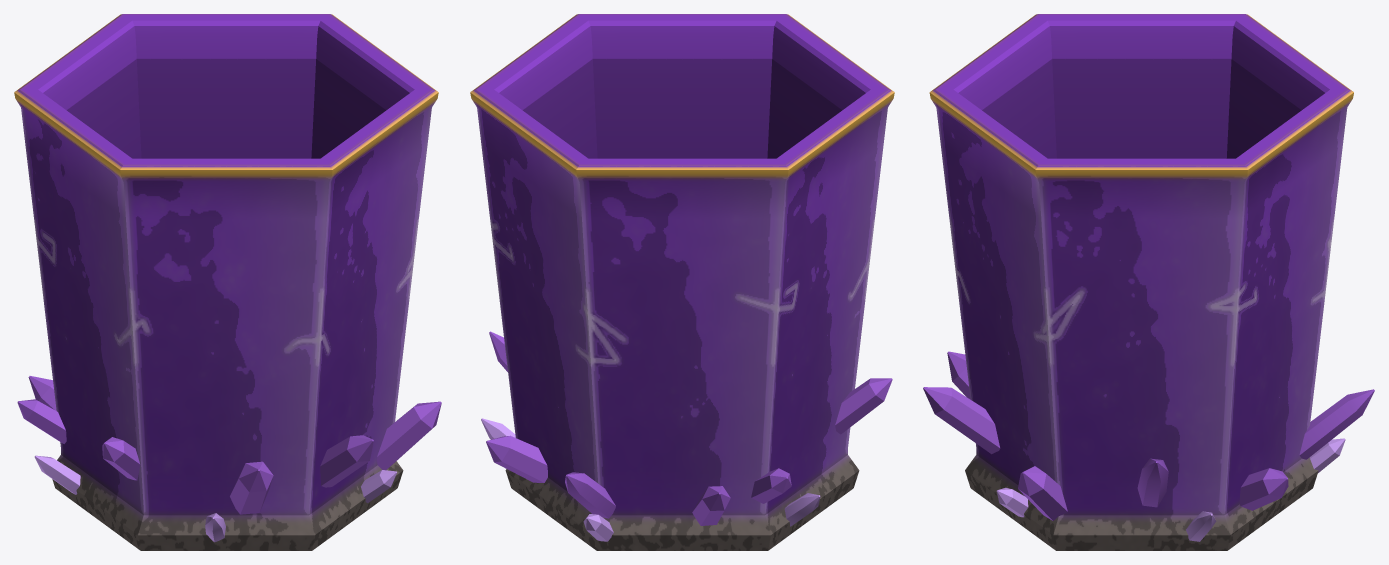
The model's file is Cup_Crystal.fbx.
3 views of the same model, side by side, from view 1: azimuth 30°, elevation 25°; view 2: azimuth 150°, elevation 25°; view 3: azimuth 270°, elevation 25° (orthographic).
Parts seen in each view (by area): view 1: Cup_Crystal; view 2: Cup_Crystal; view 3: Cup_Crystal.
Boxes of the visible parts, x1,y1,x2,y2 form: Cup_Crystal: [14, 14, 441, 550]; Cup_Crystal: [470, 14, 894, 550]; Cup_Crystal: [923, 14, 1374, 550].
Size of the model in its own units: 0.8224 by 0.9 by 0.914.
1 material, 1 textured.
